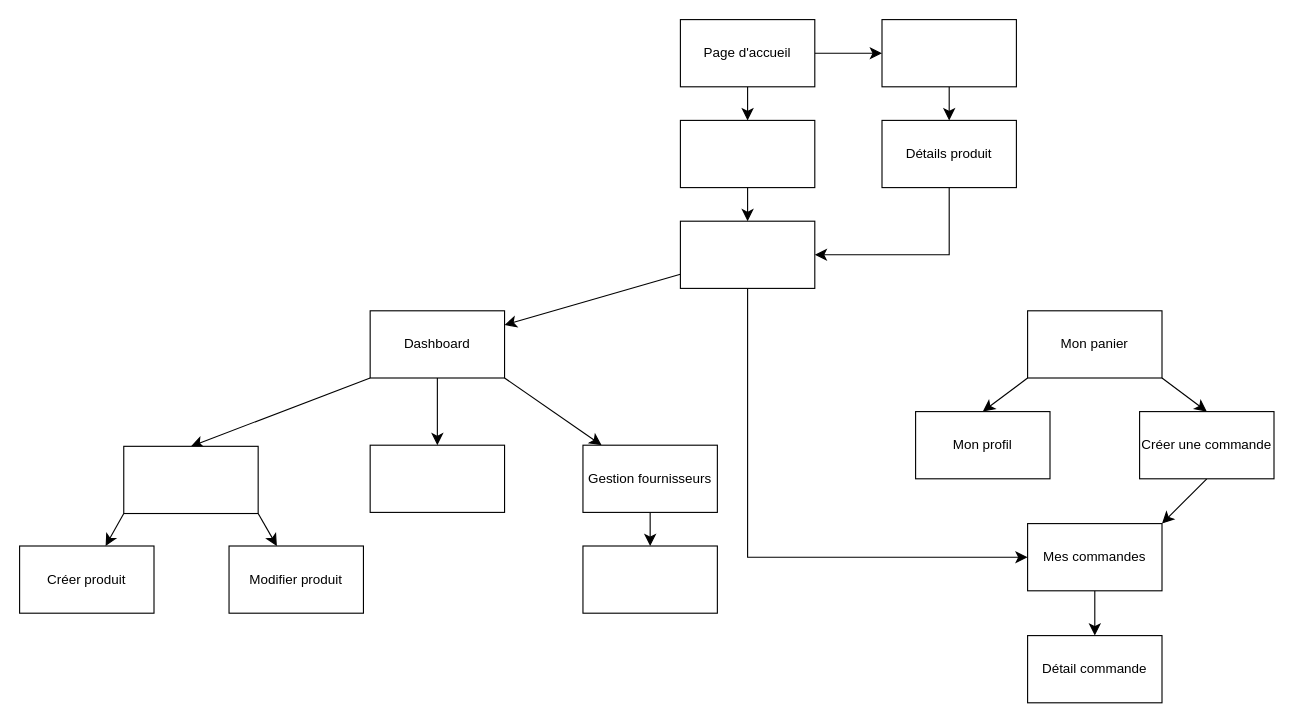
This 1294x722 diagram has some shape labels left out. The centre of each missing label's shape, as x and y in pixels:
"Catalogue" belongs at (x=948, y=52).
"Commandes fournisseur" belongs at (x=649, y=579).
"Connexion" belongs at (x=747, y=254).
"Historique mouvement" belongs at (x=437, y=478).
"Inscription" belongs at (x=747, y=153).
"Liste produits" belongs at (x=190, y=479).
